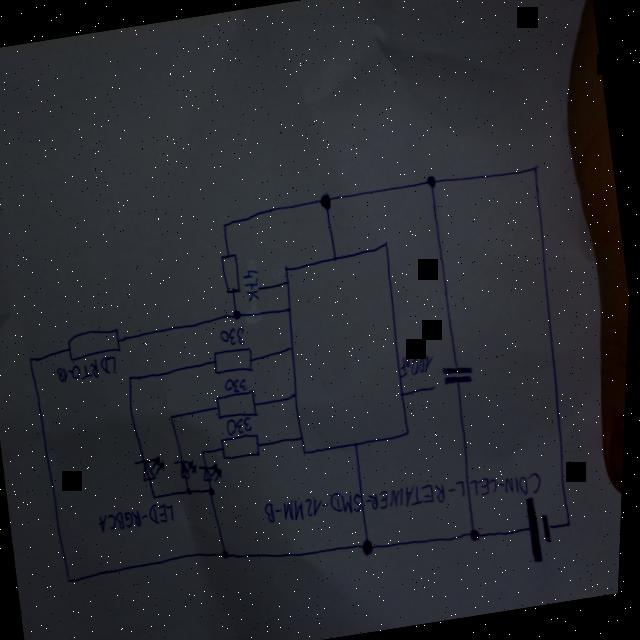capacitor: (440, 358, 479, 389)
diode: (134, 454, 171, 486), (174, 456, 202, 483), (200, 461, 228, 486)
junction: (360, 533, 384, 560), (470, 524, 488, 546), (318, 191, 335, 212), (424, 172, 440, 192), (231, 308, 246, 322), (531, 162, 542, 175), (128, 373, 138, 385), (567, 518, 576, 530), (225, 549, 234, 560), (29, 354, 38, 364), (188, 488, 197, 497), (211, 488, 220, 497), (69, 576, 78, 585), (223, 221, 230, 231), (203, 448, 210, 457), (154, 494, 162, 501), (171, 414, 178, 421)
resistor: (66, 324, 127, 363), (213, 344, 258, 378), (218, 388, 263, 422), (223, 433, 265, 464), (220, 252, 246, 296)
source: (523, 494, 561, 566)
text: (264, 457, 549, 538), (100, 500, 181, 536), (57, 354, 122, 384), (399, 352, 438, 379), (242, 266, 264, 301), (227, 414, 257, 437), (220, 325, 250, 348), (225, 374, 253, 396)
